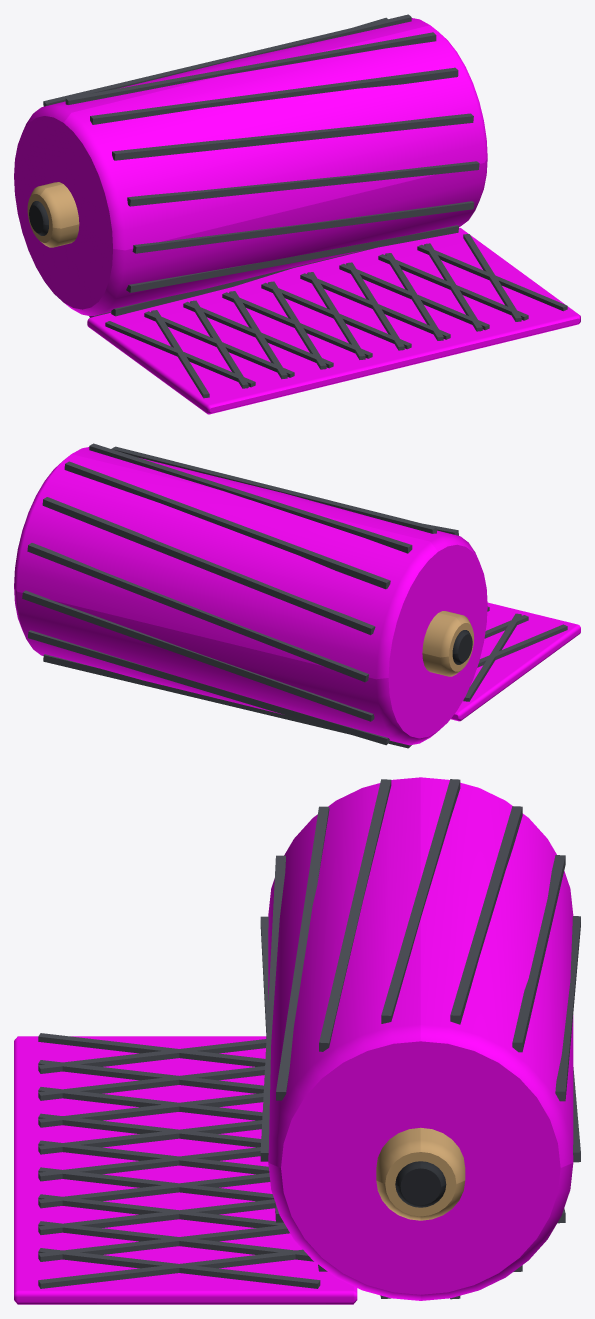
Rendered from objet_fibre_carbone.glb.
The picture shows the model from 3 angles, top to bottom: view 1: azimuth 30°, elevation 25°; view 2: azimuth 150°, elevation 25°; view 3: azimuth 270°, elevation 25°; orthographic projection. The views are drawn at different scales.
Parts seen in each view (by area): view 1: fibre_teinte.002, fibre_trame.002, fibre_carton_tube.002, fibre_composant.002; view 2: fibre_teinte.002, fibre_trame.002, fibre_carton_tube.002, fibre_composant.002; view 3: fibre_teinte.002, fibre_trame.002, fibre_carton_tube.002, fibre_composant.002.
Part boxes in pixels (x1,y1,x2,y2): fibre_teinte.002: (14,18,580,414); fibre_trame.002: (43,14,567,398); fibre_carton_tube.002: (27,182,79,247); fibre_composant.002: (29,201,48,235); fibre_teinte.002: (14,447,580,745); fibre_trame.002: (22,443,567,748); fibre_carton_tube.002: (422,611,474,676); fibre_composant.002: (452,630,472,664); fibre_teinte.002: (14,777,573,1304); fibre_trame.002: (38,779,580,1299); fibre_carton_tube.002: (376,1127,465,1220); fibre_composant.002: (395,1161,446,1207).
Bounding box in the file's own units: 0.275 × 0.1229 × 0.223.
